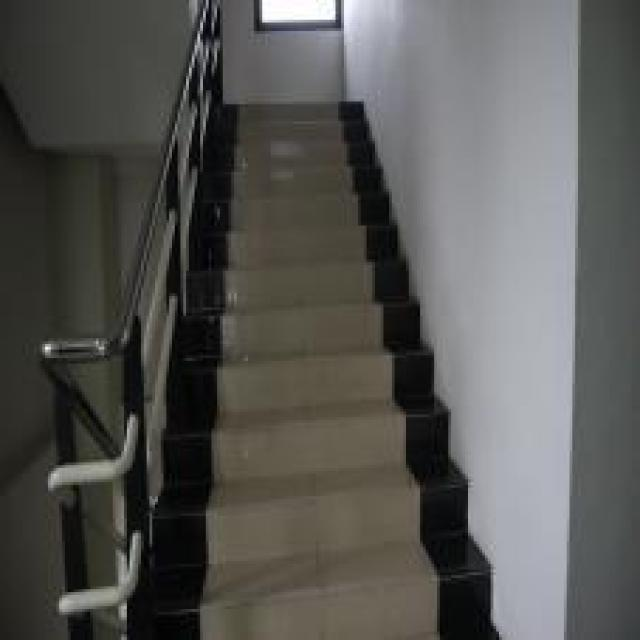upstair: (207, 125, 424, 604)
